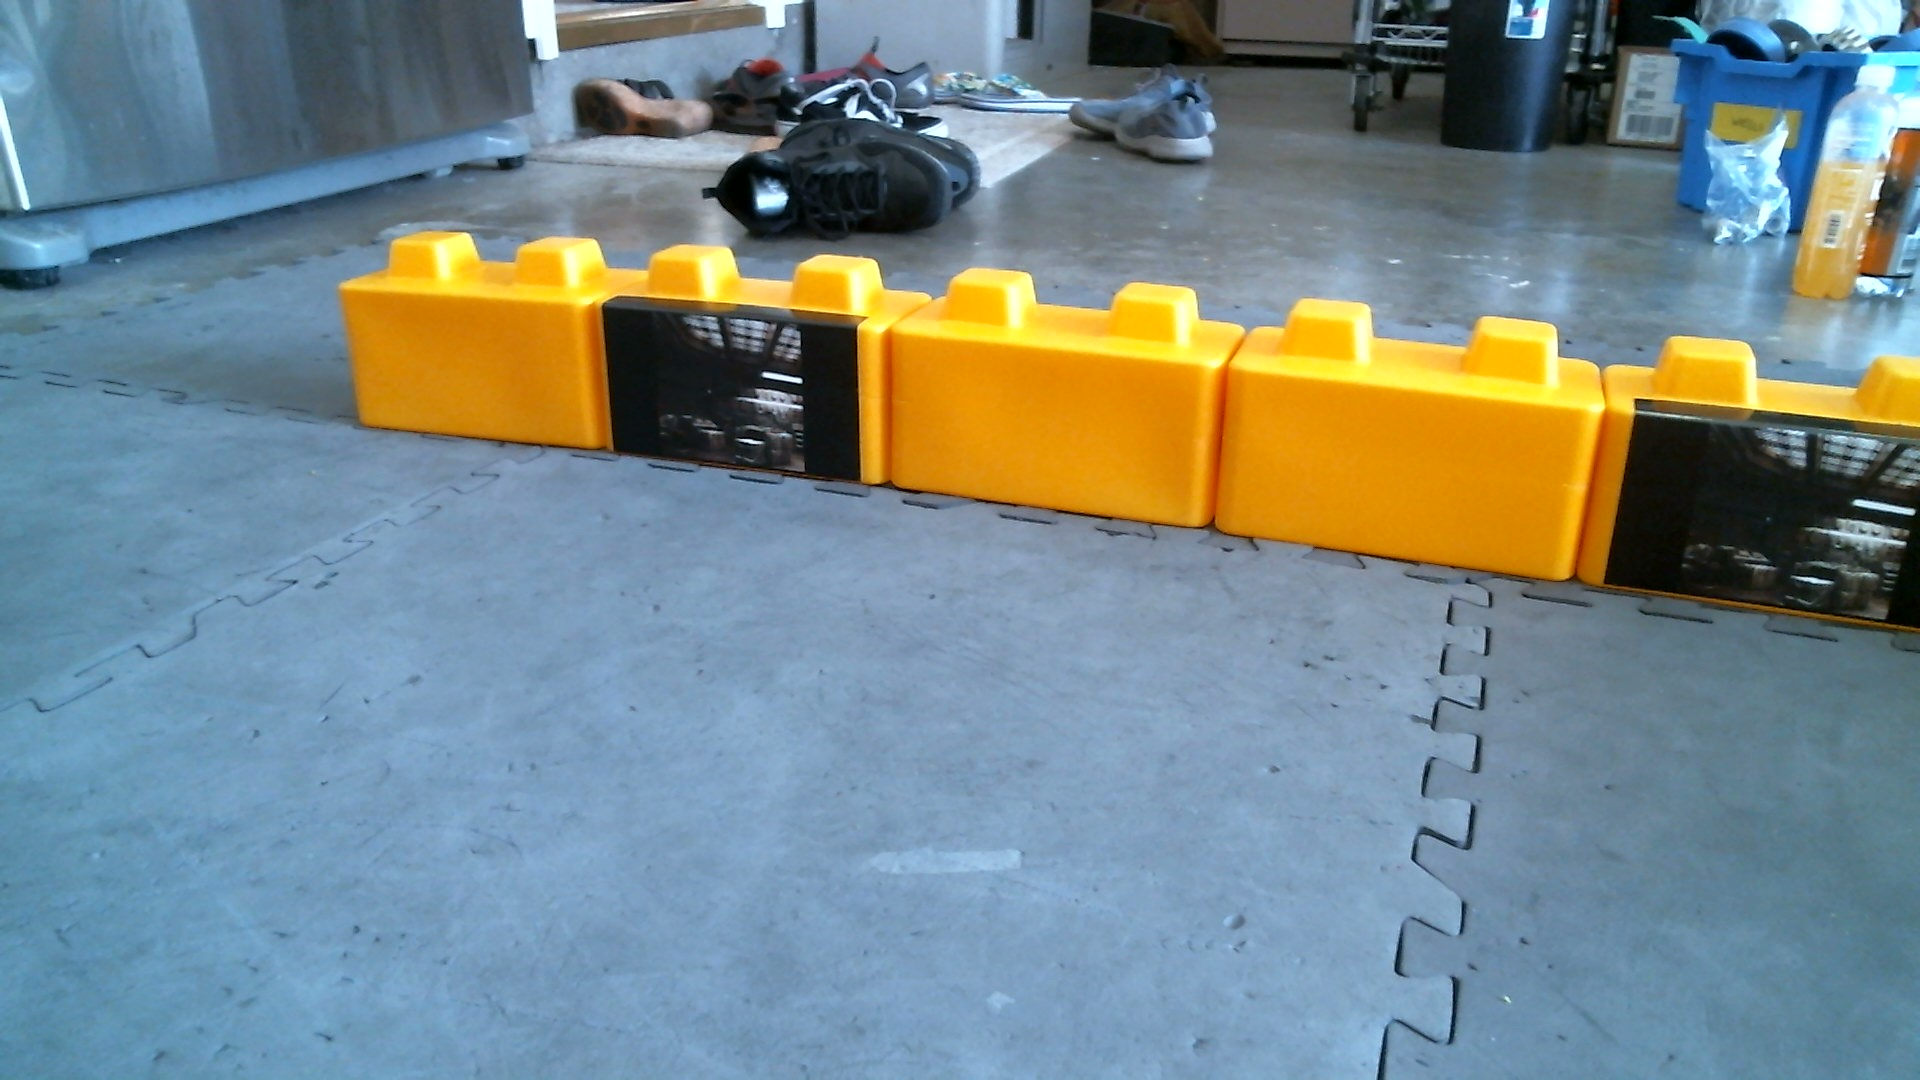skystone: (1625, 328, 1920, 654), (605, 235, 893, 502)
stone: (1240, 297, 1606, 622), (899, 262, 1238, 542), (345, 228, 615, 454)
